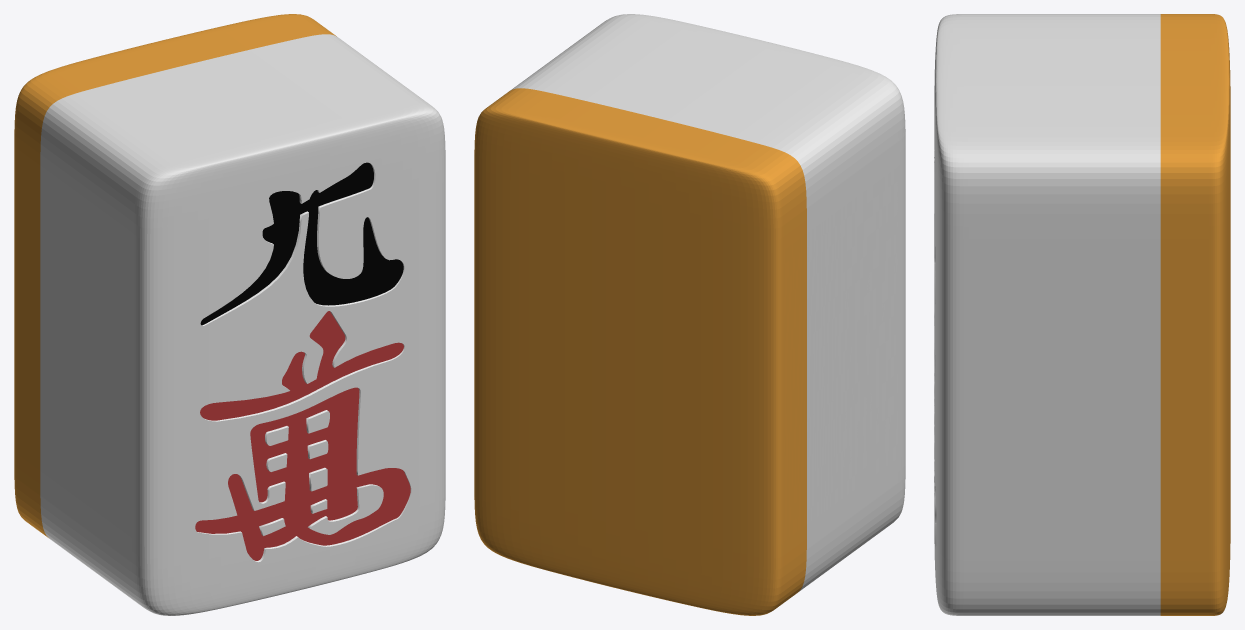
Rendered from Man9.fbx.
The picture shows the model from 3 angles, left to right: view 1: azimuth 30°, elevation 25°; view 2: azimuth 150°, elevation 25°; view 3: azimuth 270°, elevation 25°; orthographic projection. The views are drawn at different scales.
Visible parts, largest first — view 1: Man9; view 2: Man9; view 3: Man9.
Part boxes in pixels (bbox=[...]): Man9: bbox=[14, 14, 445, 615]; Man9: bbox=[474, 14, 905, 615]; Man9: bbox=[934, 14, 1230, 615].
Bounding box in the file's own units: 2 × 2.8 × 1.59.
